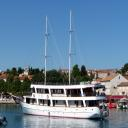cruises: (19, 82, 112, 123)
